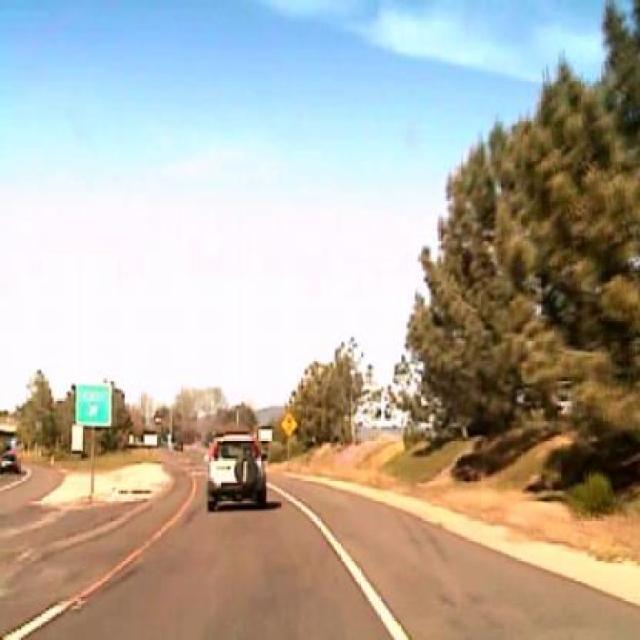signalAhead: (280, 412, 297, 436)
